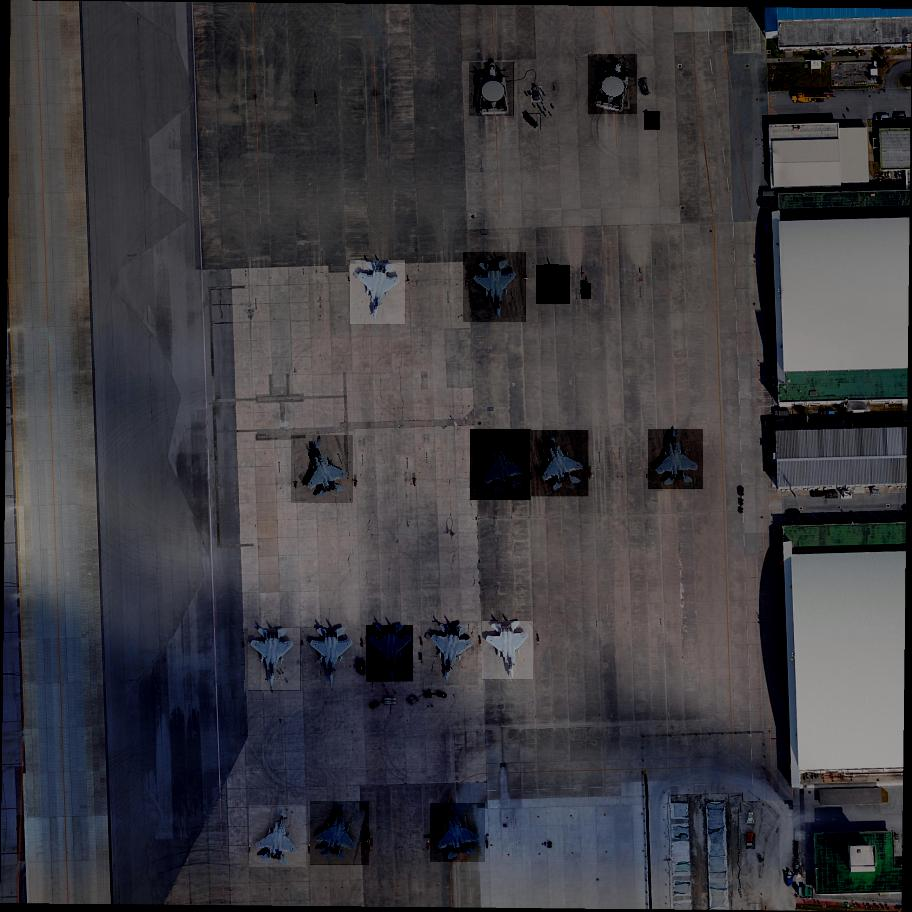large-vehicle: (523, 113, 541, 131), (644, 111, 660, 131), (638, 79, 654, 98), (532, 86, 542, 103), (582, 283, 591, 299), (746, 811, 756, 825), (746, 833, 754, 849)
plane: (464, 253, 530, 325), (292, 434, 354, 505), (470, 429, 531, 500), (529, 430, 590, 498), (310, 802, 370, 866), (420, 621, 478, 686), (350, 260, 407, 326), (249, 805, 307, 868), (647, 430, 703, 490), (430, 803, 485, 864), (482, 621, 535, 682), (248, 628, 300, 690), (588, 54, 638, 115), (310, 629, 358, 688), (366, 626, 413, 681), (470, 63, 514, 116), (537, 265, 569, 304)
small-vehicle: (874, 114, 889, 119), (893, 112, 905, 117)
